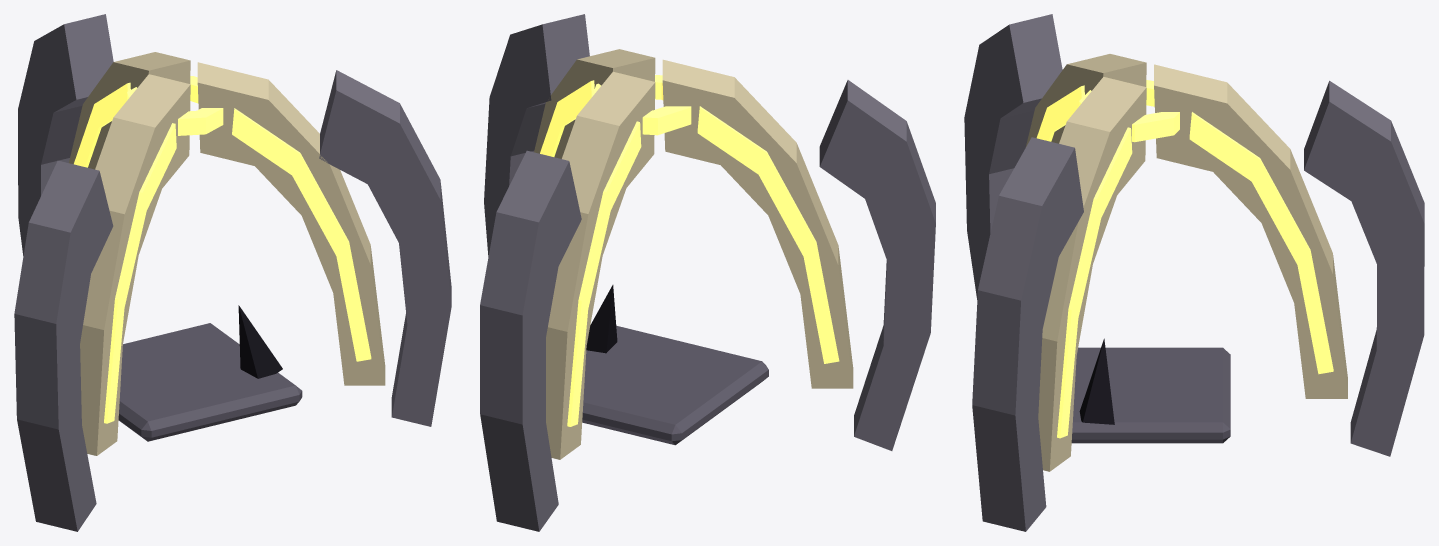
File: river_marker.glb
3 renders of one model, left to right at view 1: azimuth 30°, elevation 25°; view 2: azimuth 150°, elevation 25°; view 3: azimuth 270°, elevation 25°, orthographic. The views are drawn at different scales.
Visible parts, largest first — view 1: river_marker_corrupted, river_marker_restored; view 2: river_marker_corrupted, river_marker_restored; view 3: river_marker_corrupted, river_marker_restored.
Part boxes in pixels (box(x1,y1,x2,y2)): river_marker_corrupted: box(14, 14, 451, 531); river_marker_restored: box(69, 52, 385, 455); river_marker_corrupted: box(480, 14, 935, 531); river_marker_restored: box(534, 49, 853, 459); river_marker_corrupted: box(964, 14, 1424, 531); river_marker_restored: box(1025, 54, 1347, 471).
Bounding box in the file's own units: 1.37 × 1.08 × 1.2.
